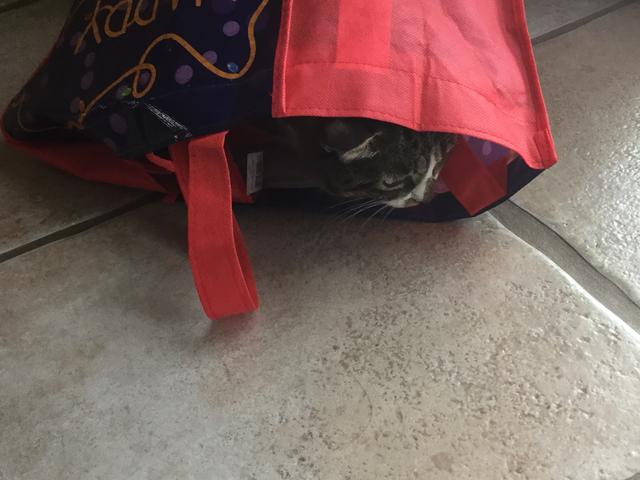playdoh: (312, 112, 462, 216)
